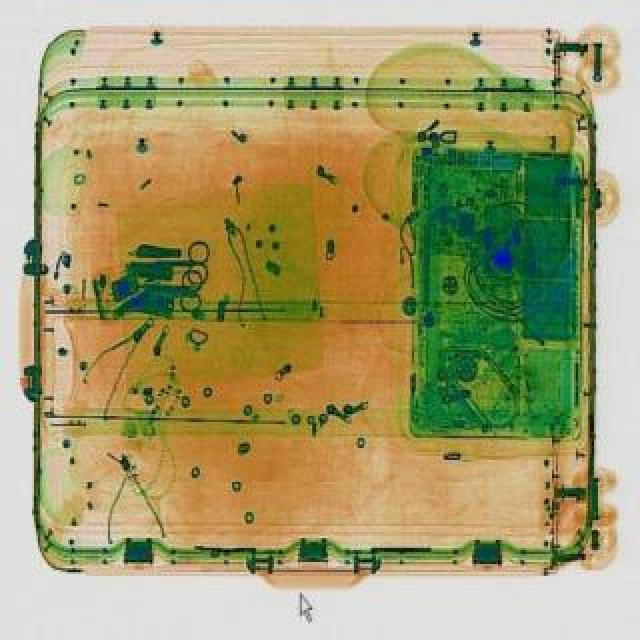pliers: (132, 240, 212, 284), (136, 270, 202, 310)
